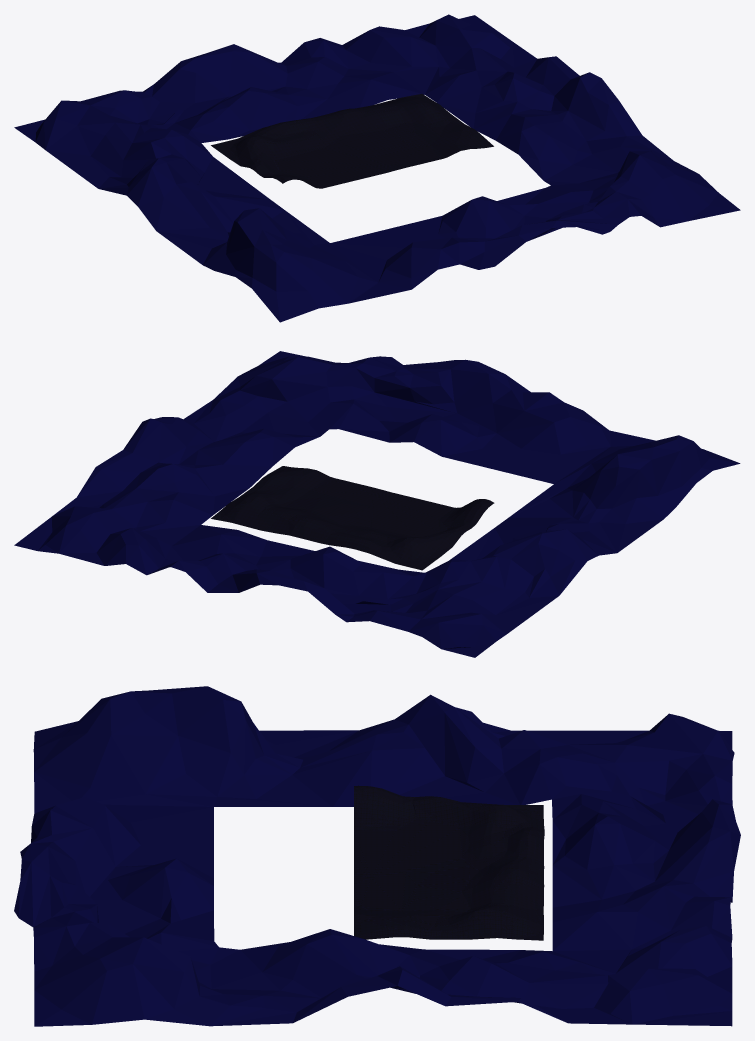
Rendered from kleczewsky_terrain.glb.
3 views of the same model, one above another, from view 1: azimuth 30°, elevation 25°; view 2: azimuth 150°, elevation 25°; view 3: azimuth 270°, elevation 25° (orthographic). The views are drawn at different scales.
Visible parts, largest first — view 1: Plane.001, Plane; view 2: Plane.001, Plane; view 3: Plane.001, Plane.
Boxes of the visible parts, x1,y1,x2,y2 form: Plane.001: (14, 14, 740, 322); Plane: (211, 94, 493, 188); Plane.001: (14, 351, 740, 657); Plane: (211, 466, 494, 570); Plane.001: (14, 686, 740, 1026); Plane: (354, 785, 544, 940).
Size of the model in its own units: 1576 by 163 by 1639.
2 materials, 1 textured.
